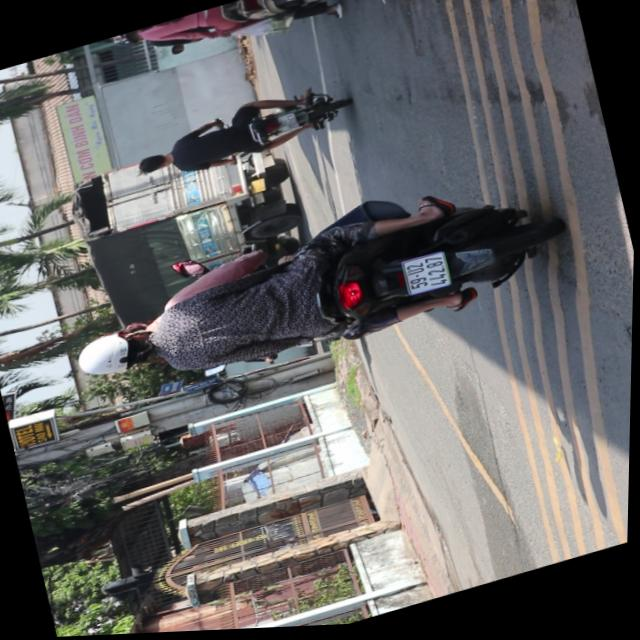helmet: (72, 320, 162, 387), (101, 31, 140, 48)
licenseplate: (58, 155, 570, 428), (127, 79, 354, 194), (98, 0, 348, 85)
motorcyclist: (135, 152, 172, 180)
nohelmet: (401, 256, 450, 301), (276, 115, 298, 136), (281, 0, 306, 4)
